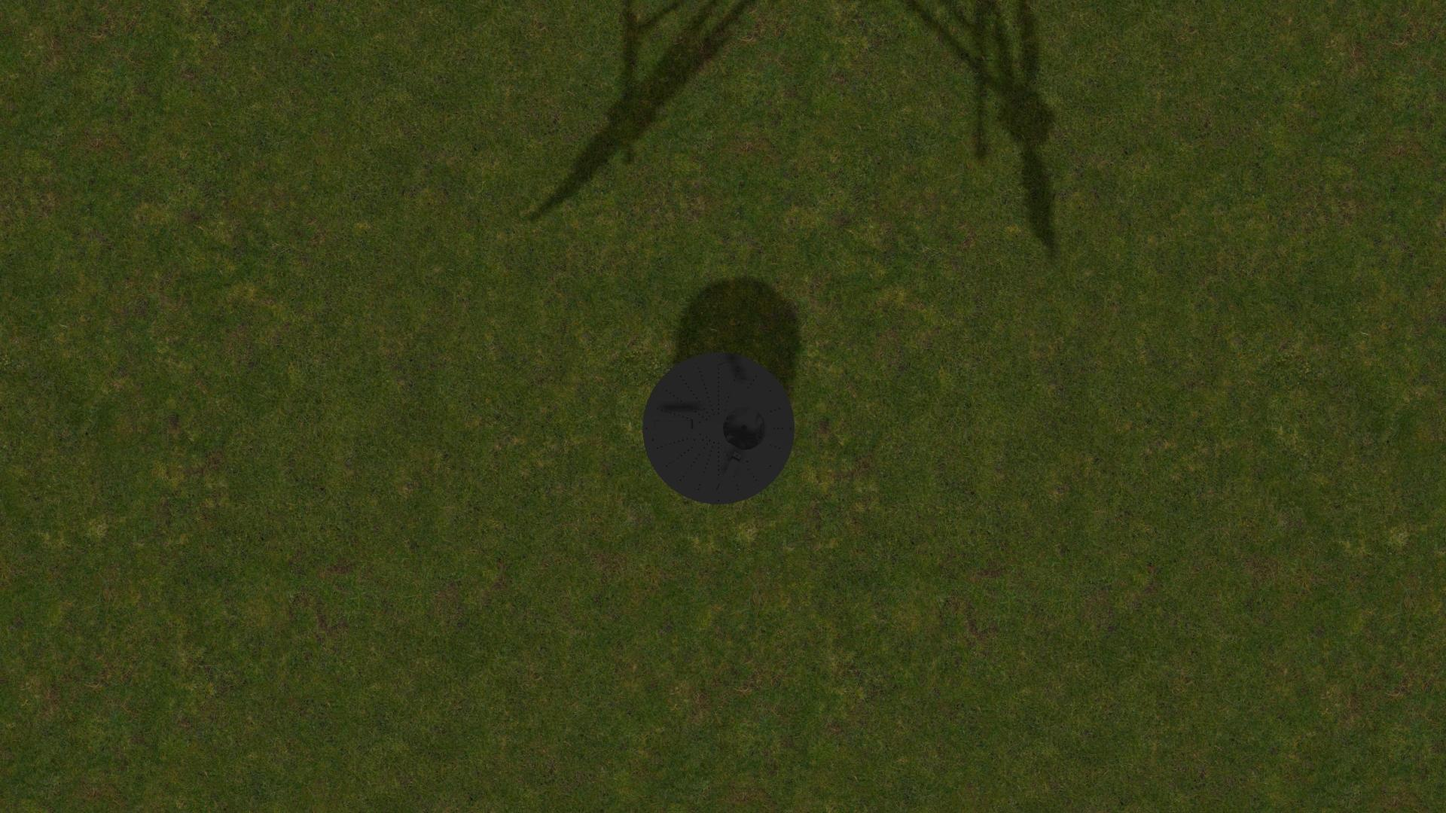alca: (715, 451, 741, 497), (717, 358, 742, 403), (651, 420, 698, 430)
armadilha: (642, 352, 795, 505)
